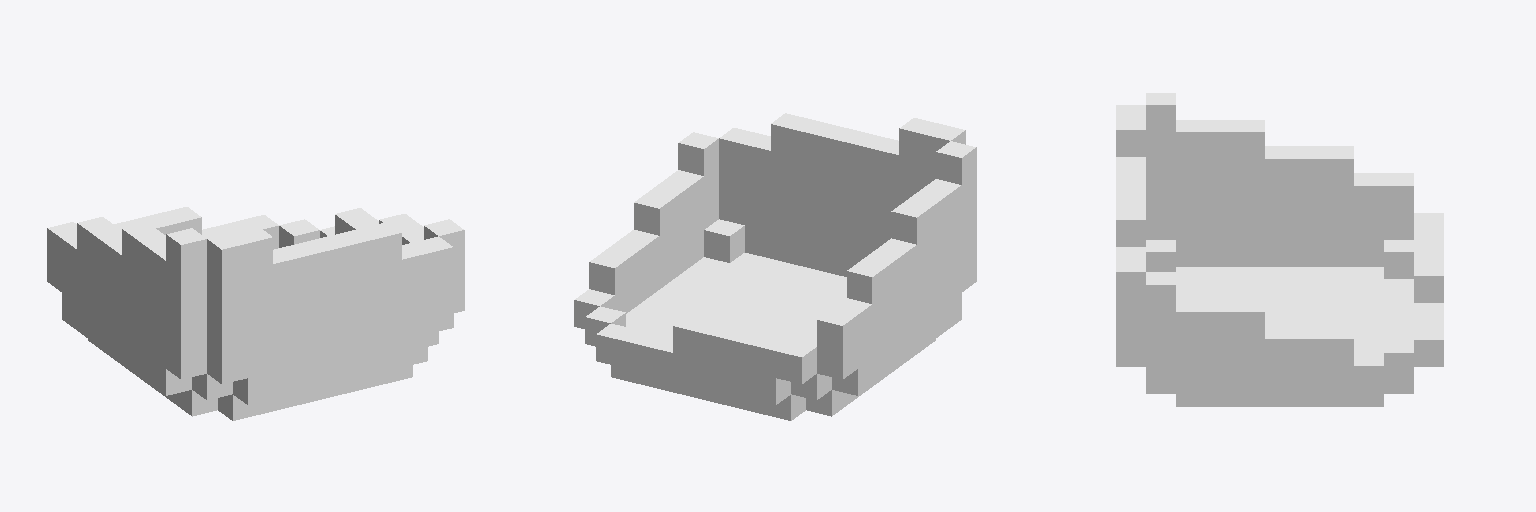
Rendered from egg_zigzag_bottomhalf.obj.
3 views of the same model, side by side, from view 1: azimuth 30°, elevation 25°; view 2: azimuth 150°, elevation 25°; view 3: azimuth 270°, elevation 25° (orthographic).
Visible parts, largest first — view 1: egg_zigzag_tophalf; view 2: egg_zigzag_tophalf; view 3: egg_zigzag_tophalf.
Boxes of the visible parts, <box> form: egg_zigzag_tophalf: <box>47,207,464,420</box>; egg_zigzag_tophalf: <box>574,113,976,420</box>; egg_zigzag_tophalf: <box>1116,93,1443,406</box>.
Size of the model in its own units: 1.1 by 0.7 by 1.1.